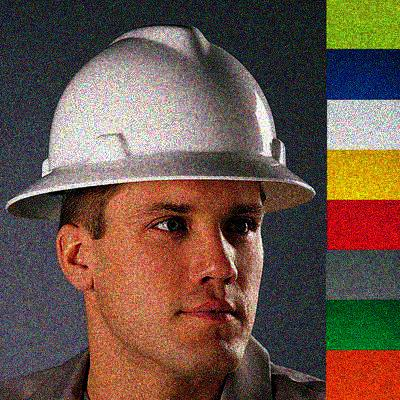helmet: (8, 23, 317, 379)
